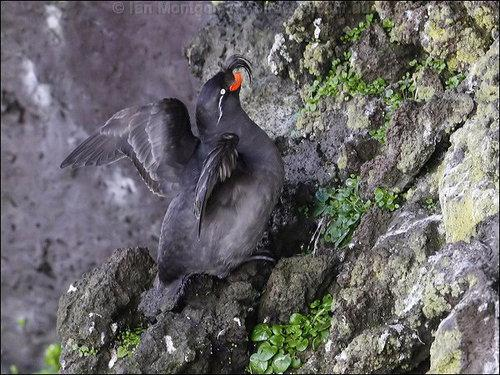005.Crested_Auklet: (59, 53, 287, 296)
